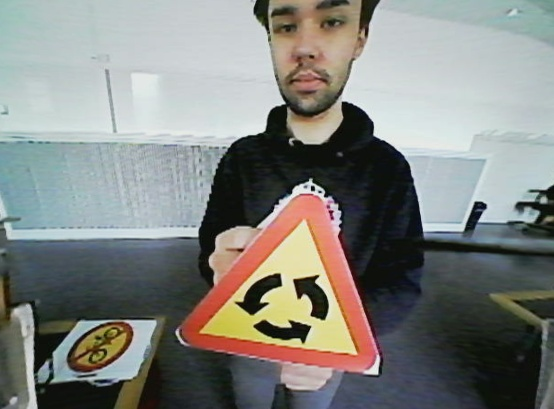roundabout_warning: (173, 188, 380, 378)
